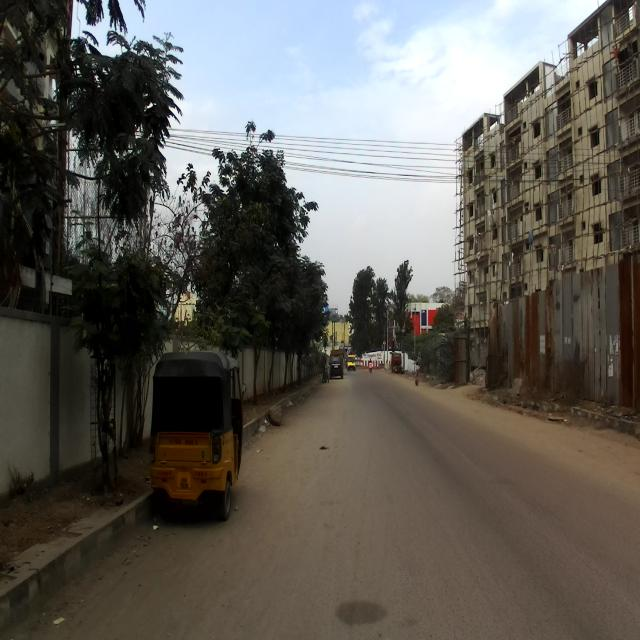auto ahead at: (142, 346, 250, 519)
tree ahead at: (78, 267, 134, 493)
